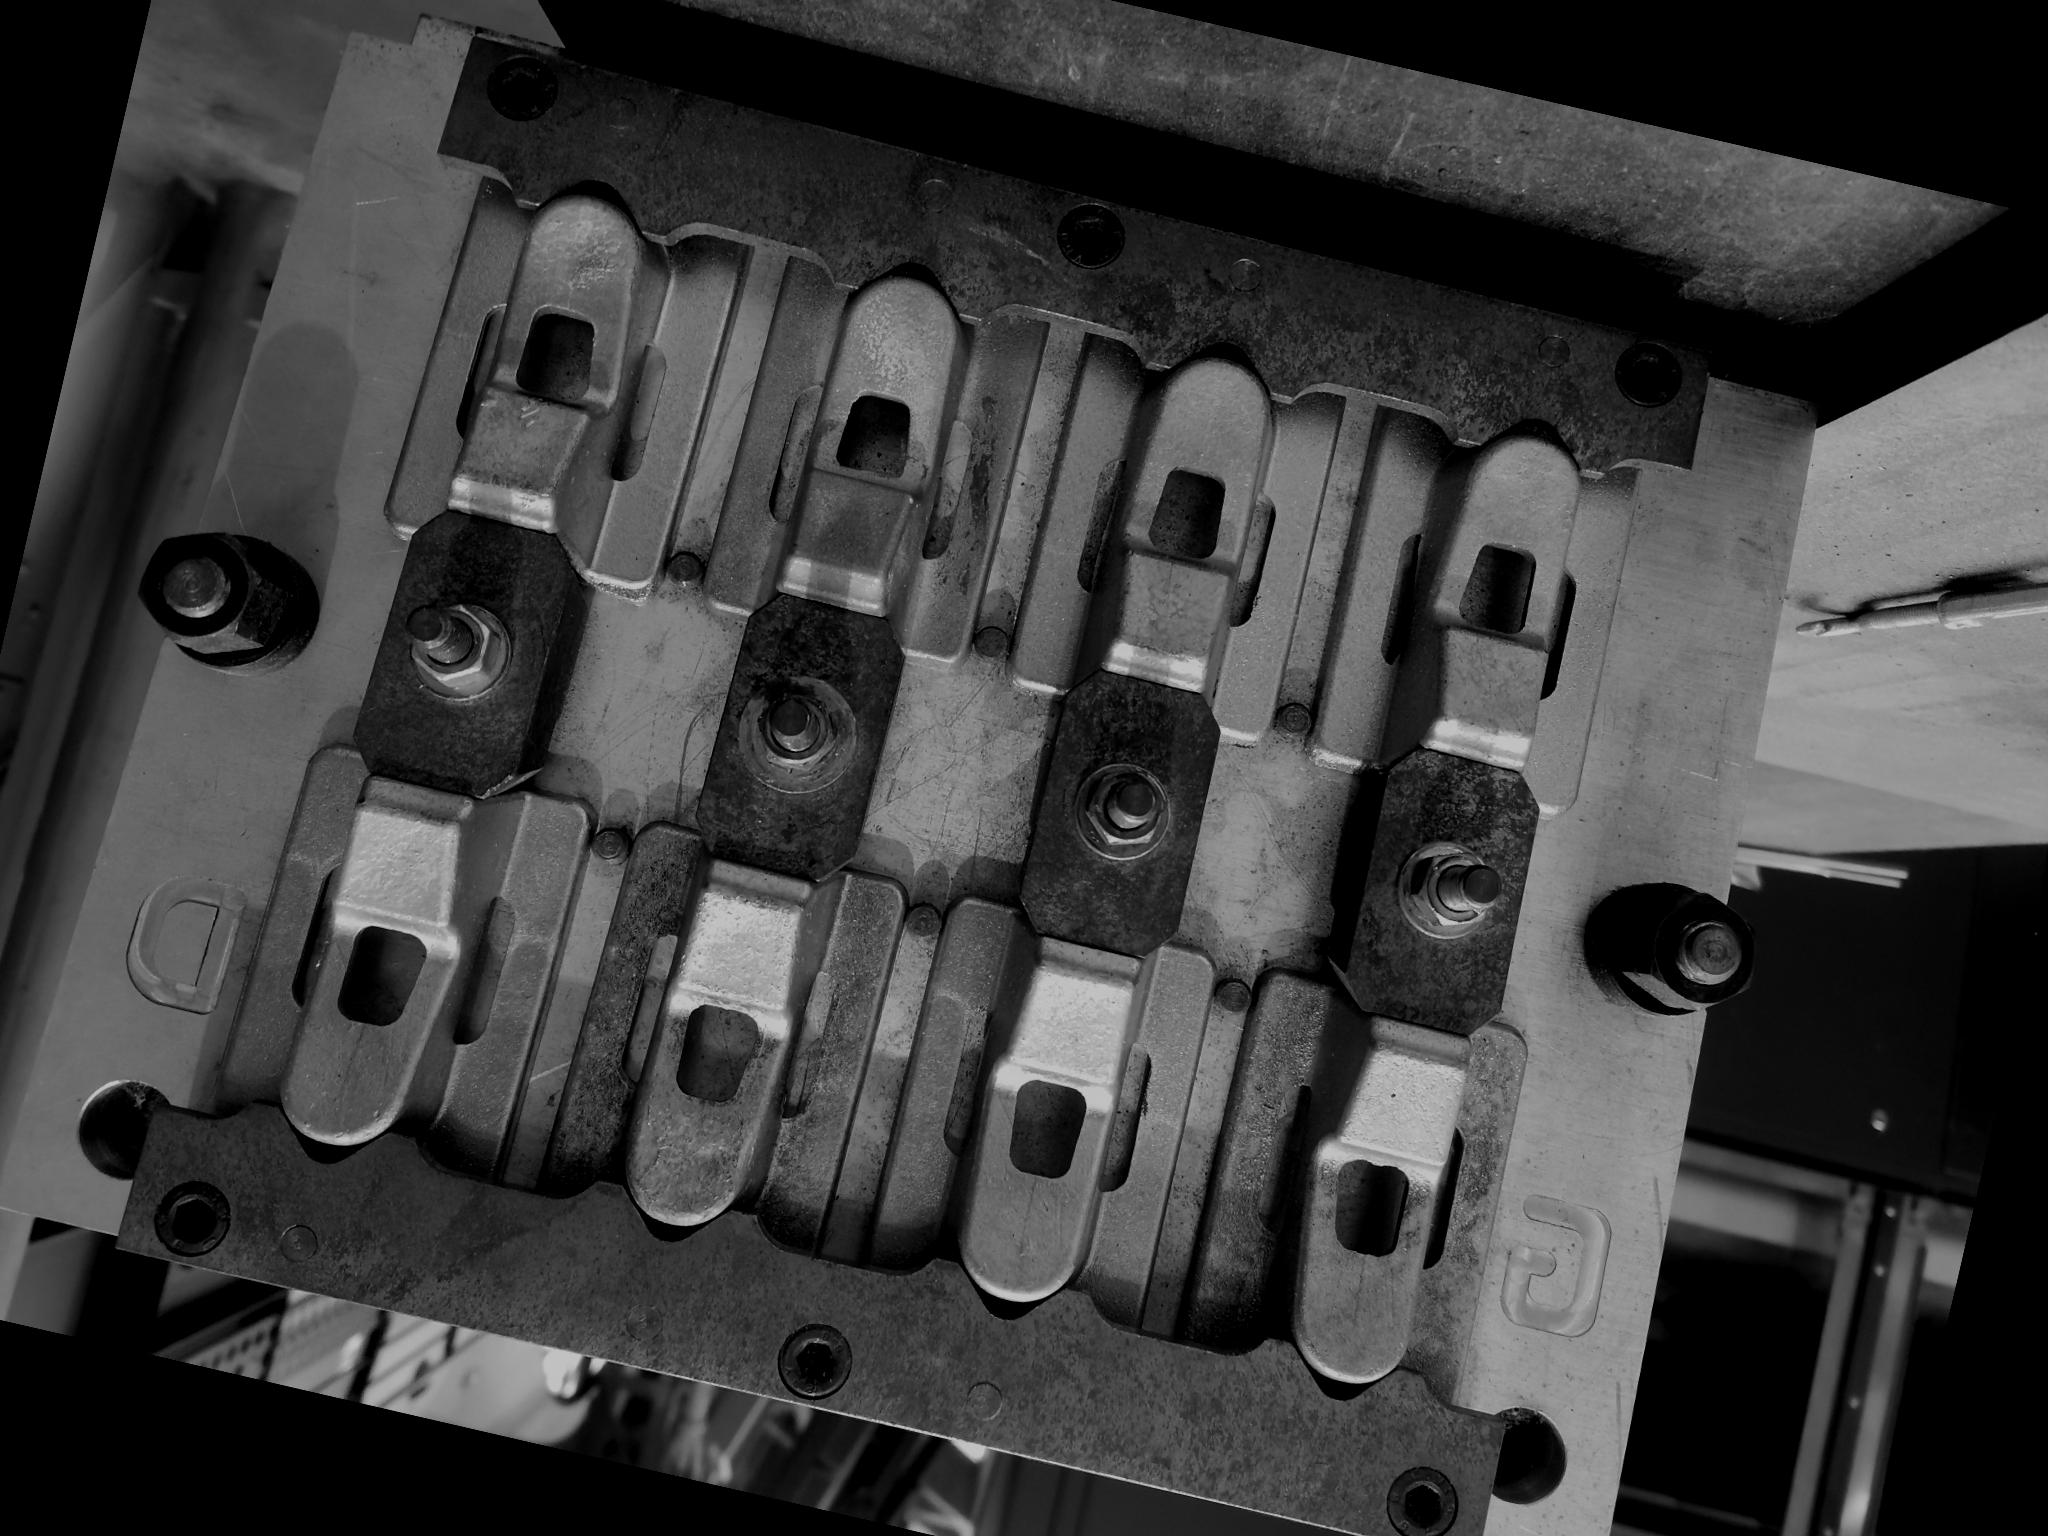allen: (759, 1306, 871, 1416), (138, 1166, 246, 1268), (1040, 190, 1141, 283), (468, 42, 572, 132), (1371, 1452, 1476, 1536), (1602, 328, 1696, 418)
hexagonal: (118, 502, 294, 673), (729, 667, 866, 793), (394, 584, 526, 706), (1060, 749, 1182, 868), (1390, 827, 1508, 946)
